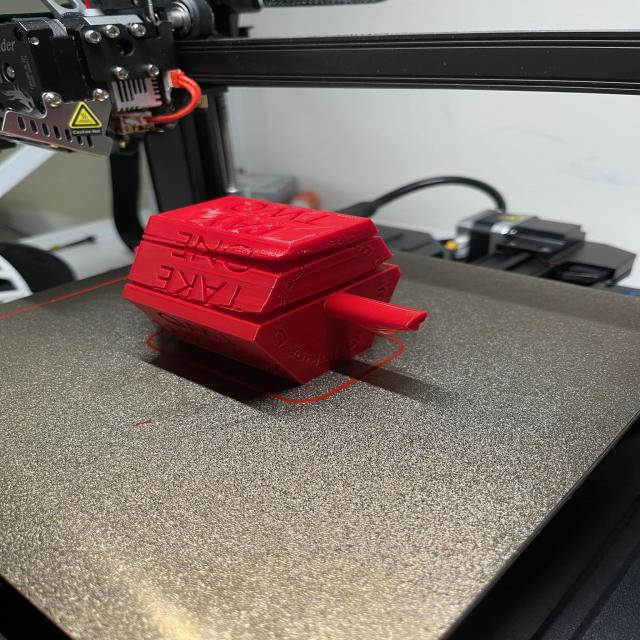warping: (233, 252, 296, 266), (226, 304, 276, 318), (277, 251, 312, 266), (356, 228, 382, 245), (371, 254, 396, 269)
